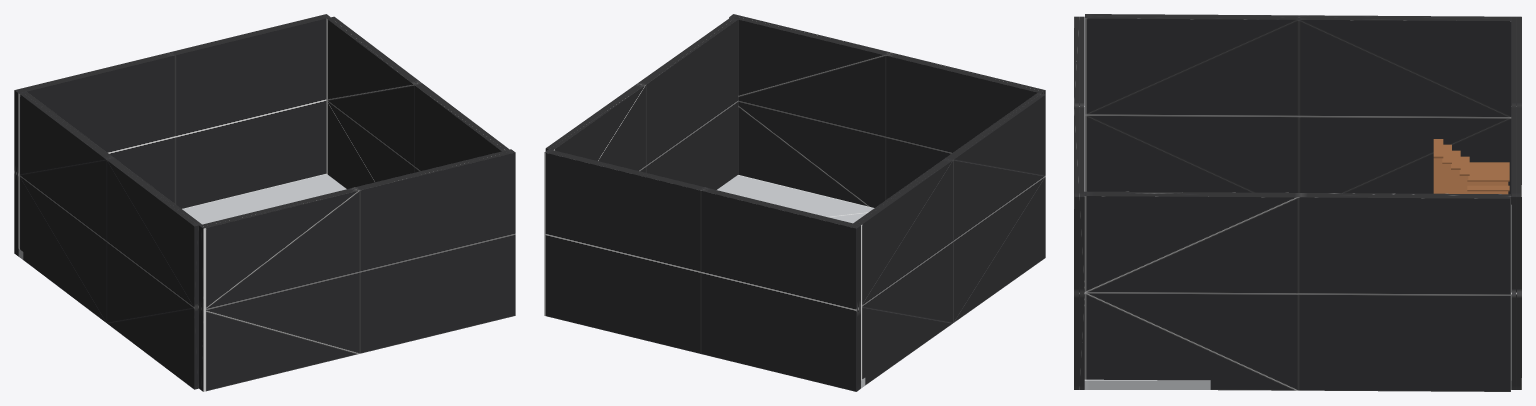
The picture shows the model from 3 angles, left to right: view 1: azimuth 30°, elevation 25°; view 2: azimuth 150°, elevation 25°; view 3: azimuth 270°, elevation 25°; orthographic projection. The views are drawn at different scales.
Parts seen in each view (by area): view 1: Cube.002, Cube.001, Cube.004, Cube.003, Cube; view 2: Cube.001, Cube.002, Cube.004, Cube.003, Cube; view 3: Cube.003, Cube.004, Cube.001, Cube.002, stairsCorner, Cube.
Part boxes in pixels (box(x1,y1,x2,y2)): Cube.002: box(199, 149, 515, 391); Cube.001: box(14, 14, 330, 256); Cube.004: box(19, 91, 201, 389); Cube.003: box(326, 16, 509, 188); Cube: box(18, 173, 346, 259); Cube.001: box(544, 149, 860, 391); Cube.002: box(729, 14, 1045, 207); Cube.004: box(853, 93, 1045, 385); Cube.003: box(545, 17, 738, 189); Cube: box(717, 175, 874, 388); Cube.003: box(1084, 191, 1510, 391); Cube.004: box(1085, 14, 1511, 204); Cube.001: box(1511, 16, 1521, 389); Cube.002: box(1074, 16, 1084, 389); stairsCorner: box(1433, 139, 1509, 194); Cube: box(1084, 205, 1511, 389).
Size of the model in its own units: 81.99 by 40.01 by 83.97.
7 materials, 5 textured.
